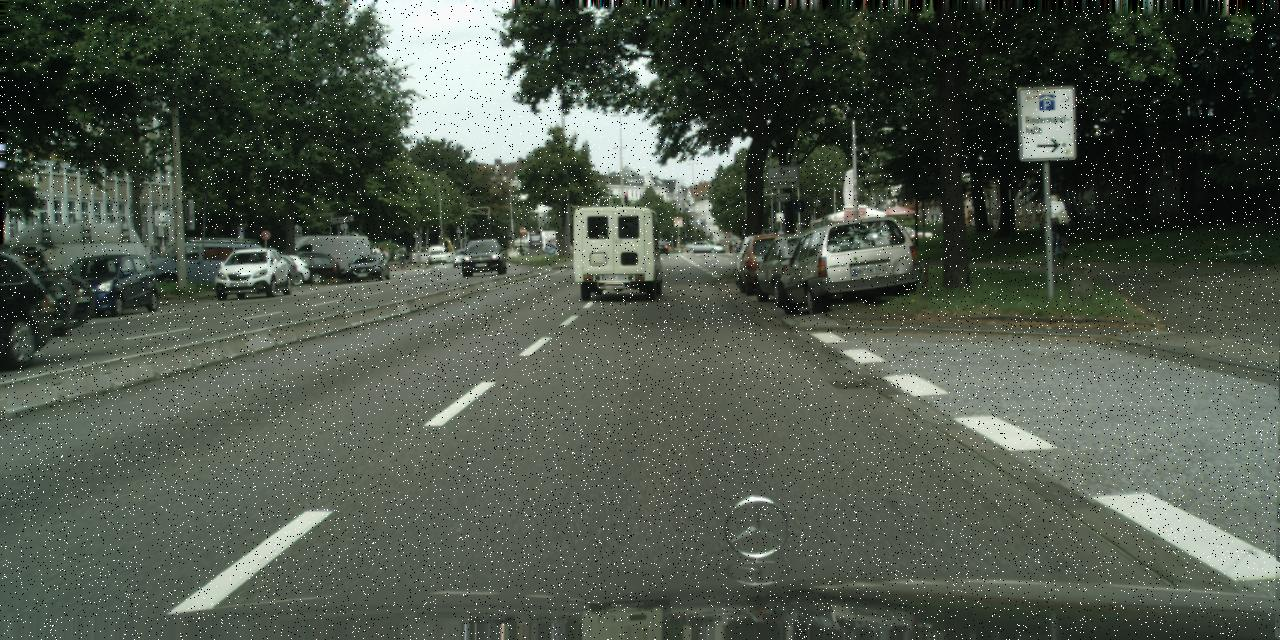ped: (1044, 193, 1066, 248), (372, 244, 390, 262), (400, 244, 406, 260), (398, 244, 404, 260), (393, 248, 398, 260), (370, 245, 374, 258)
